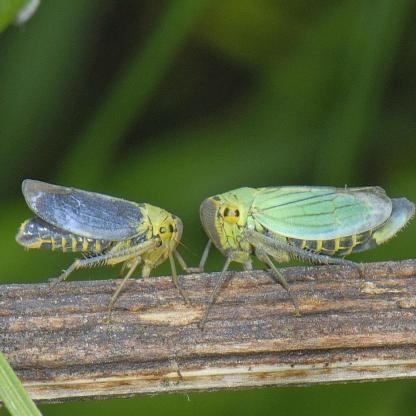Green-Leafhopper: (199, 176, 416, 326), (16, 170, 197, 326)
